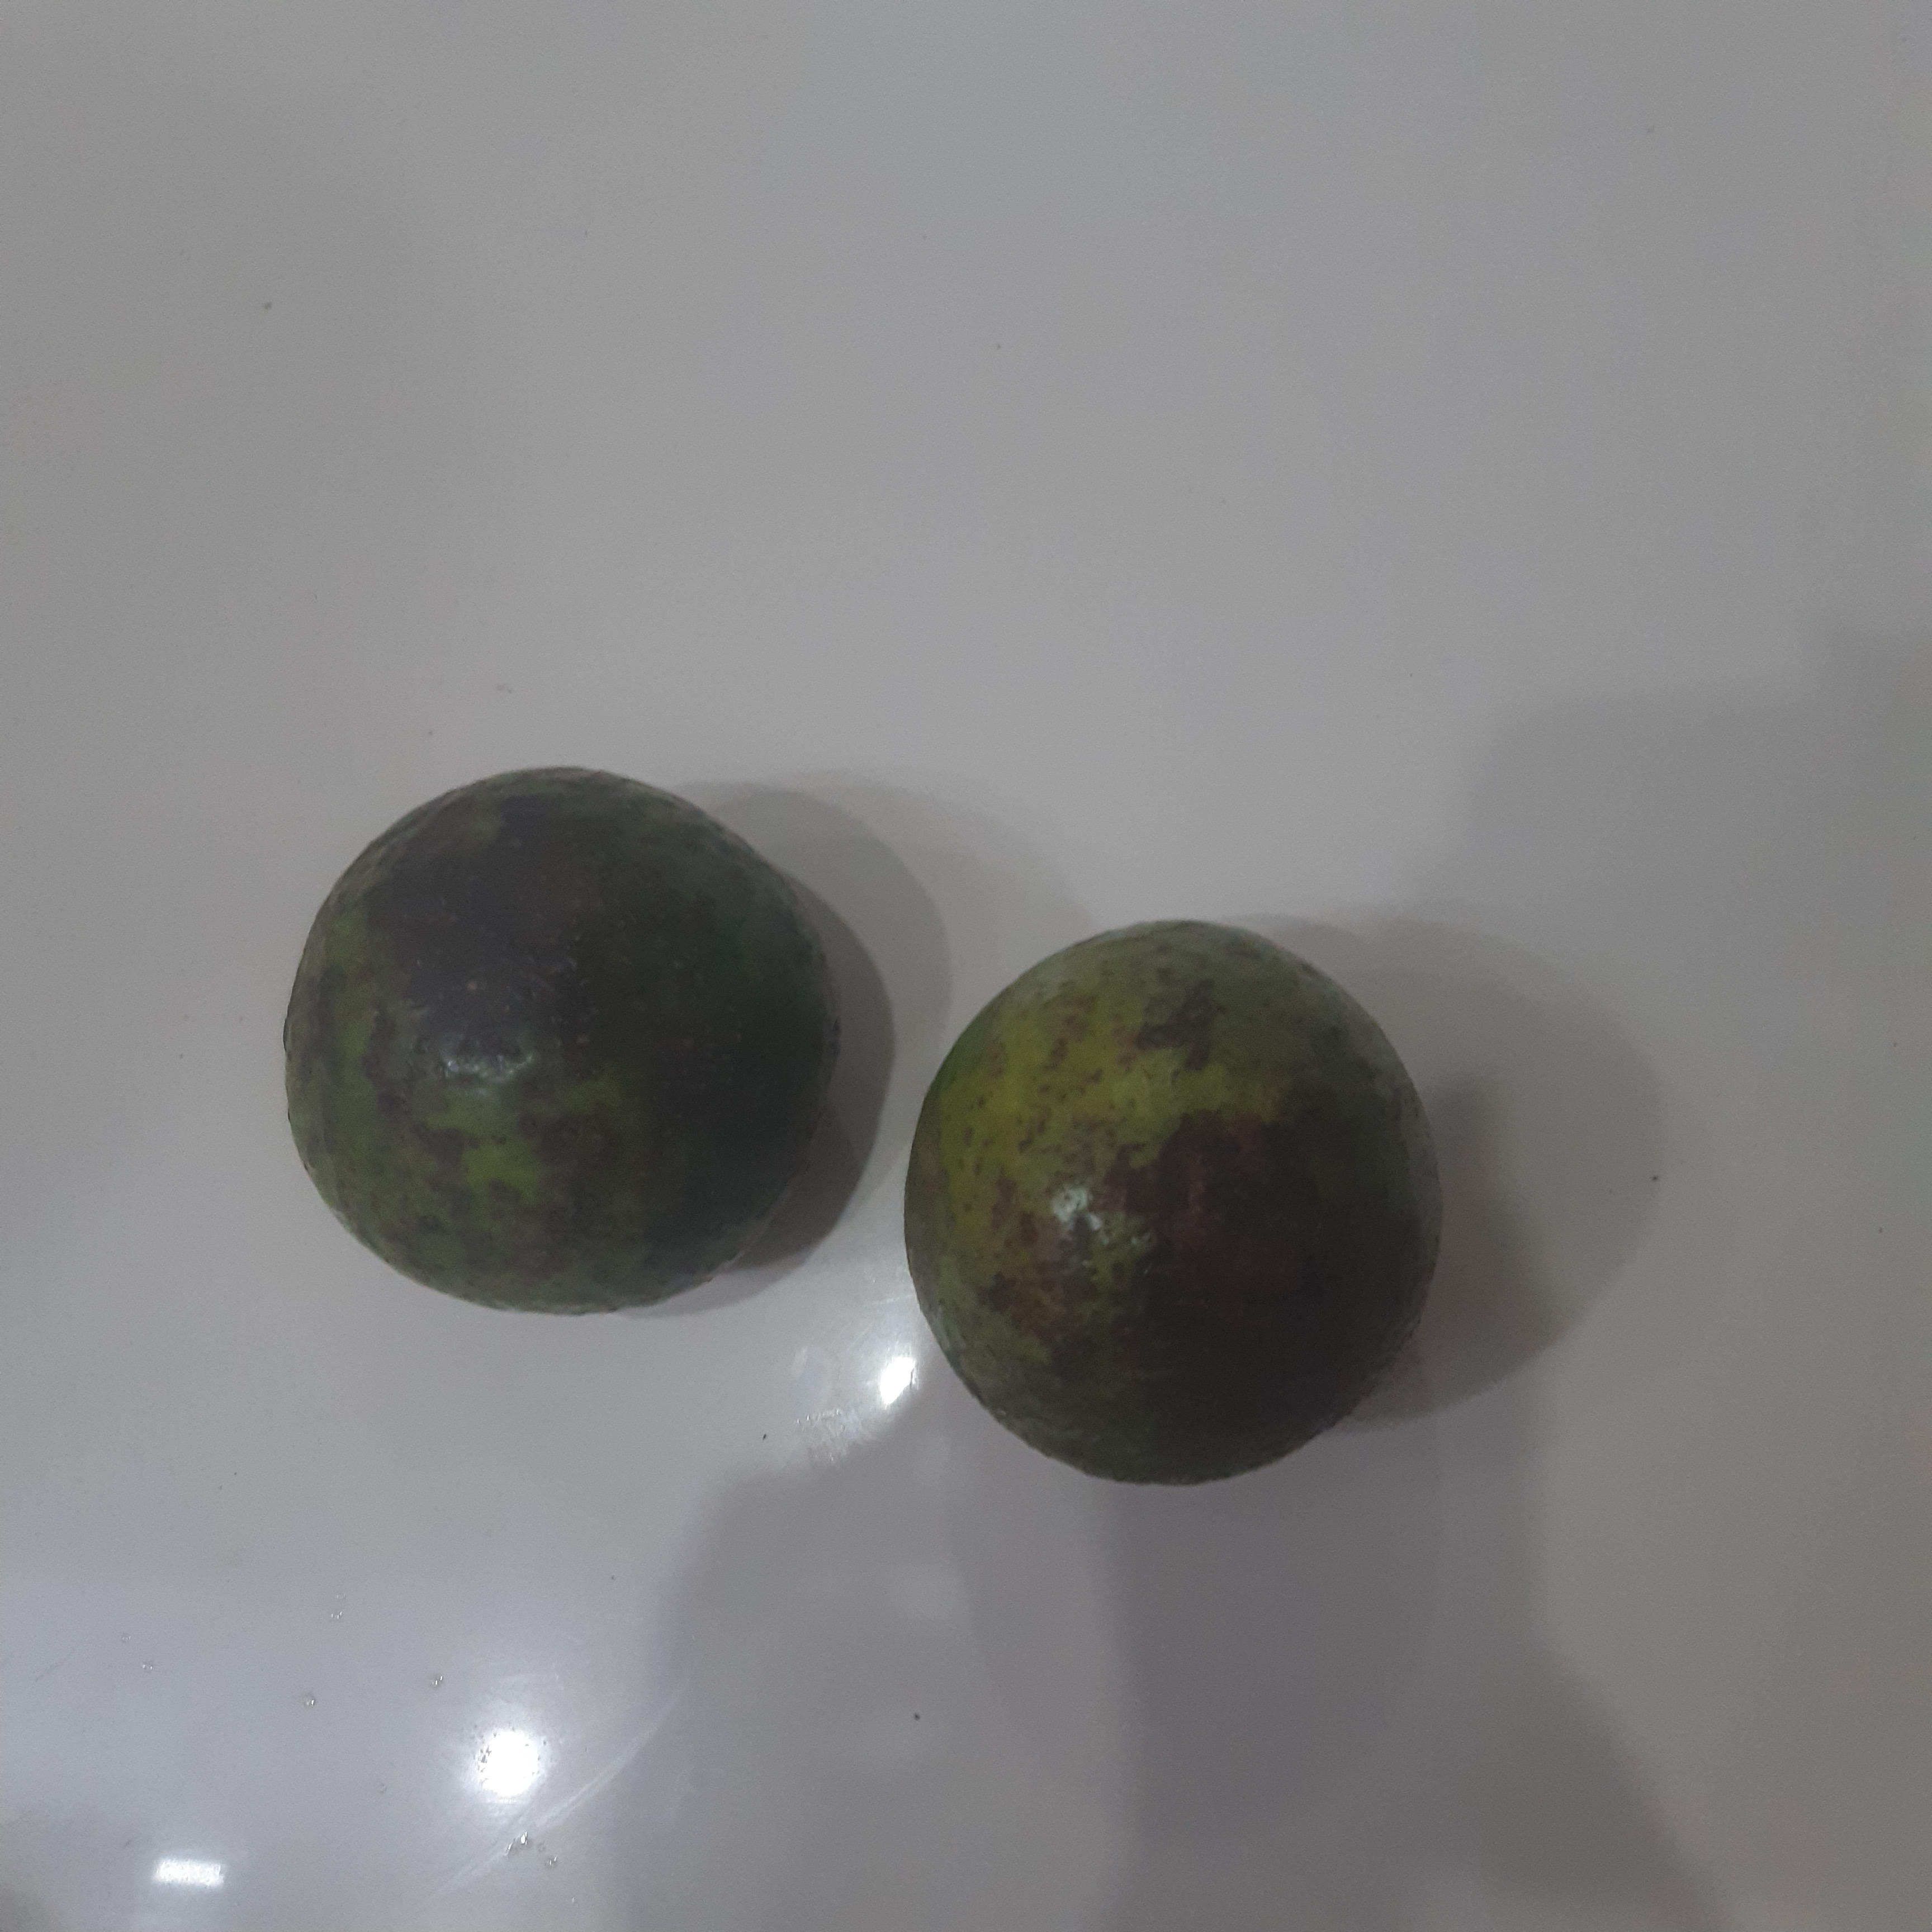Bo: (902, 916, 1445, 1491), (276, 764, 832, 1315)
